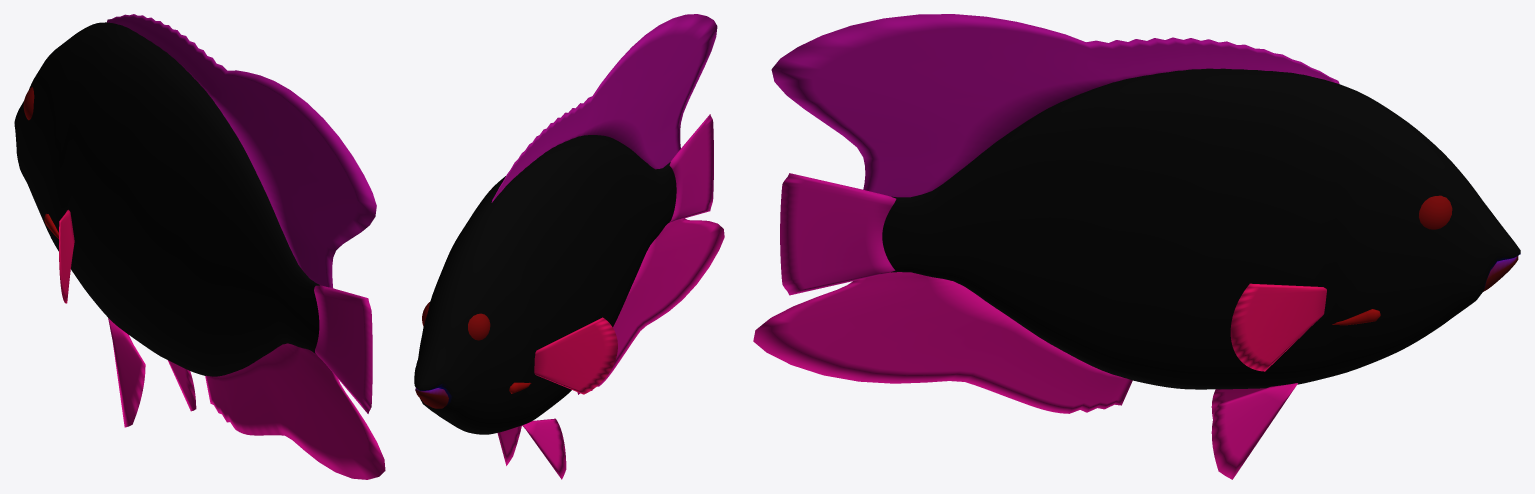
The model's file is angelfish_queen.glb.
The picture shows the model from 3 angles, left to right: view 1: azimuth 30°, elevation 25°; view 2: azimuth 150°, elevation 25°; view 3: azimuth 270°, elevation 25°; orthographic projection. The views are drawn at different scales.
Visible parts, largest first — view 1: angelfish_queen; view 2: angelfish_queen; view 3: angelfish_queen.
Boxes of the visible parts, x1=… form: angelfish_queen: x1=14, y1=14, x2=385, y2=479; angelfish_queen: x1=414, y1=14, x2=724, y2=479; angelfish_queen: x1=753, y1=14, x2=1520, y2=479.
Size of the model in its own units: 0.114 by 0.2341 by 0.3627.
